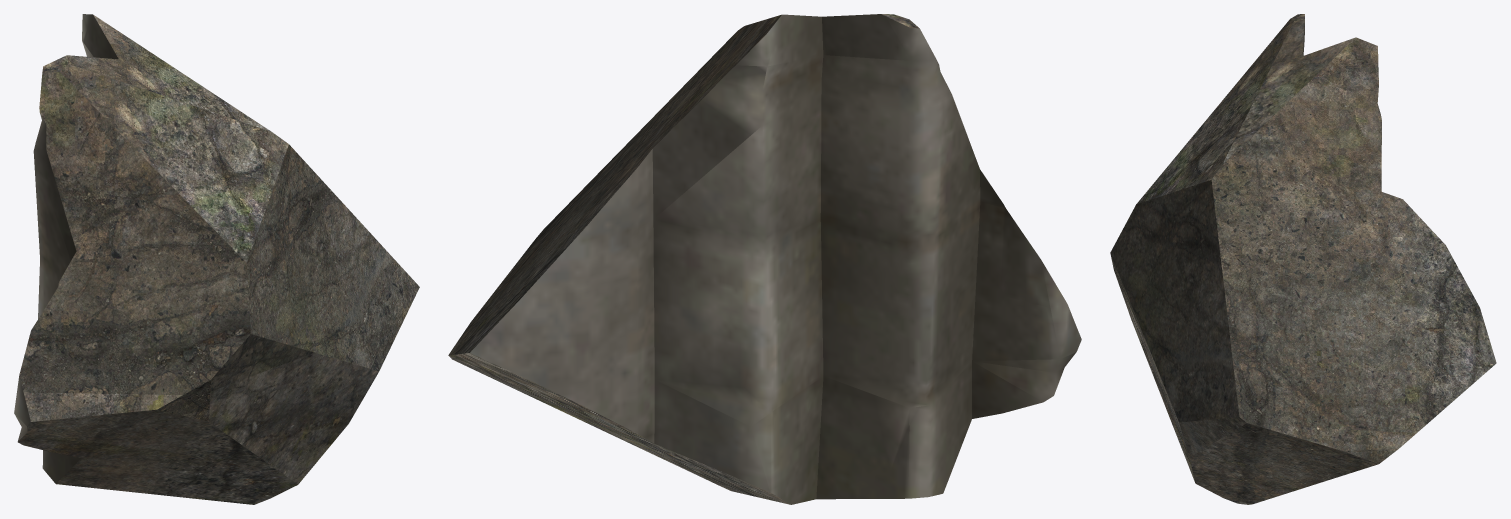
File: ColumnDamage08_5.fbx
3 renders of one model, left to right at view 1: azimuth 30°, elevation 25°; view 2: azimuth 150°, elevation 25°; view 3: azimuth 270°, elevation 25°, orthographic. The views are drawn at different scales.
Parts seen in each view (by area): view 1: ColumnDamage08_DM.005; view 2: ColumnDamage08_DM.005; view 3: ColumnDamage08_DM.005.
Part boxes in pixels (left/top/right/bottom): ColumnDamage08_DM.005: left=14, top=14, right=419, bottom=504; ColumnDamage08_DM.005: left=448, top=14, right=1081, bottom=504; ColumnDamage08_DM.005: left=1110, top=14, right=1496, bottom=504.
Bounding box in the file's own units: 176 × 186 × 154.
Materials: 2 (2 with a texture image).
